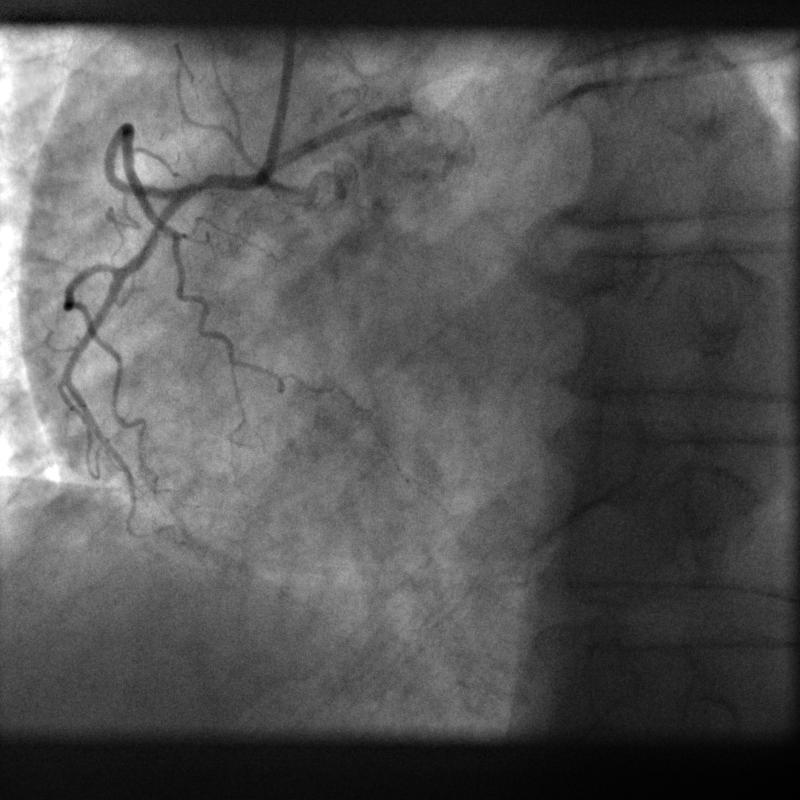Stenosis: (184, 167, 215, 206)
